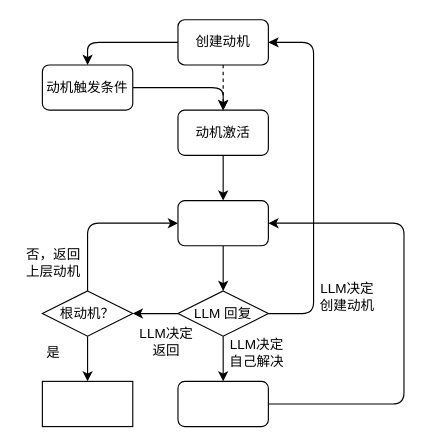
The diagram is 433 pixels wide and 446 high, and some of its shapes have lost their labels. Each missing label, with the box of its shape:
CALL LLM: (177, 199, 268, 246)
END: (41, 380, 133, 427)
工具调用: (177, 380, 268, 427)
